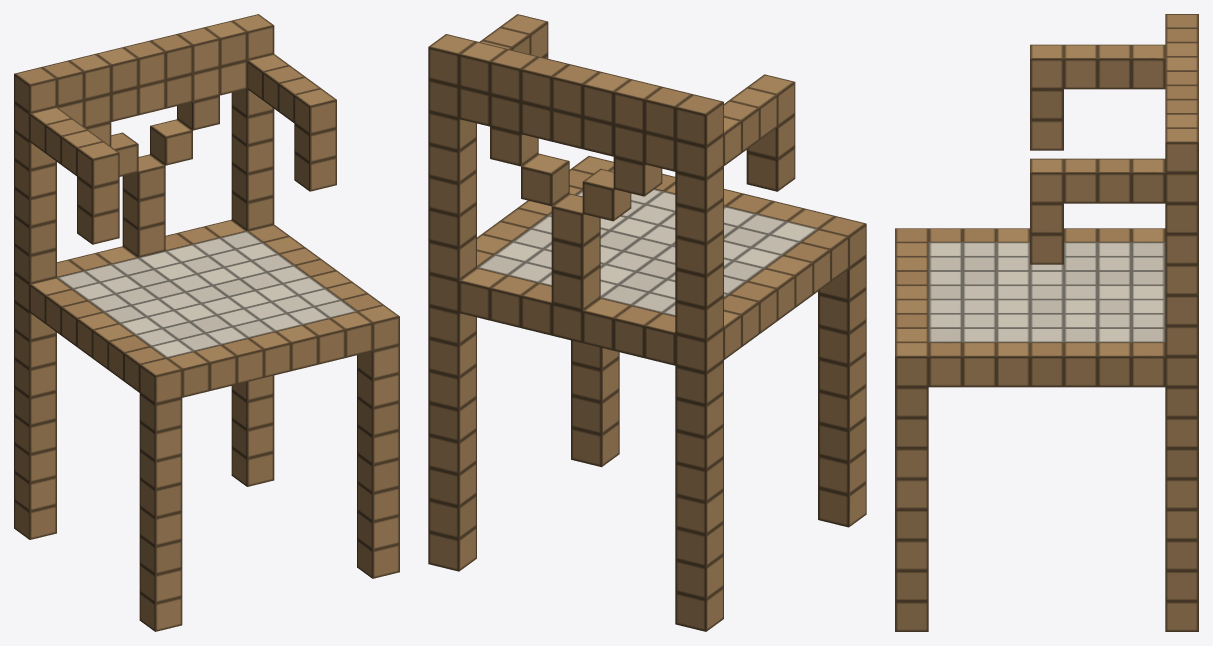
Rendered from wishbone_chair.glb.
3 views of the same model, side by side, from view 1: azimuth 30°, elevation 25°; view 2: azimuth 150°, elevation 25°; view 3: azimuth 270°, elevation 25° (orthographic). The views are drawn at different scales.
Visible parts, largest first — view 1: wishbone_chair; view 2: wishbone_chair; view 3: wishbone_chair.
Boxes of the visible parts, <box> form: wishbone_chair: <box>14,14,399,631</box>; wishbone_chair: <box>428,14,866,631</box>; wishbone_chair: <box>895,14,1198,631</box>.
Size of the model in its own units: 0.45 by 0.8 by 0.45.
2 materials, 2 textured.
